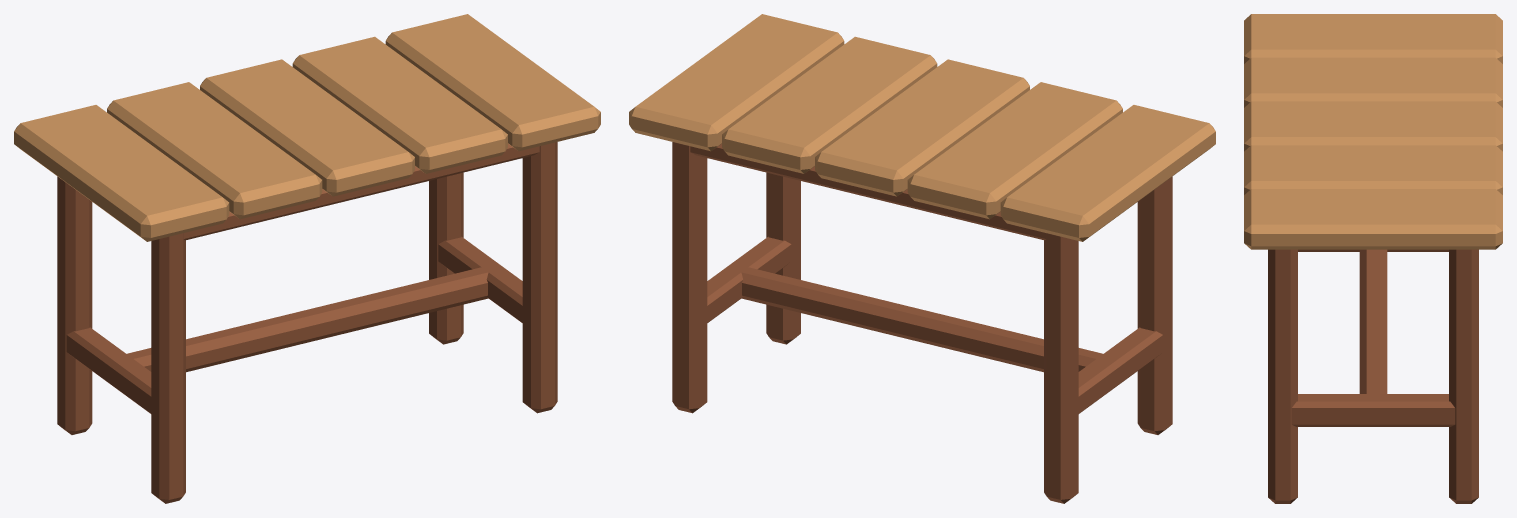
The model's file is 02_Display_Table.glb.
3 renders of one model, left to right at view 1: azimuth 30°, elevation 25°; view 2: azimuth 150°, elevation 25°; view 3: azimuth 270°, elevation 25°, orthographic. The views are drawn at different scales.
Visible parts, largest first — view 1: 02_Display_Table; view 2: 02_Display_Table; view 3: 02_Display_Table.
Boxes of the visible parts, x1,y1,x2,y2 form: 02_Display_Table: [14, 14, 600, 503]; 02_Display_Table: [629, 14, 1215, 503]; 02_Display_Table: [1244, 14, 1502, 503].
Bounding box in the file's own units: 1.29 × 0.815 × 0.65.
